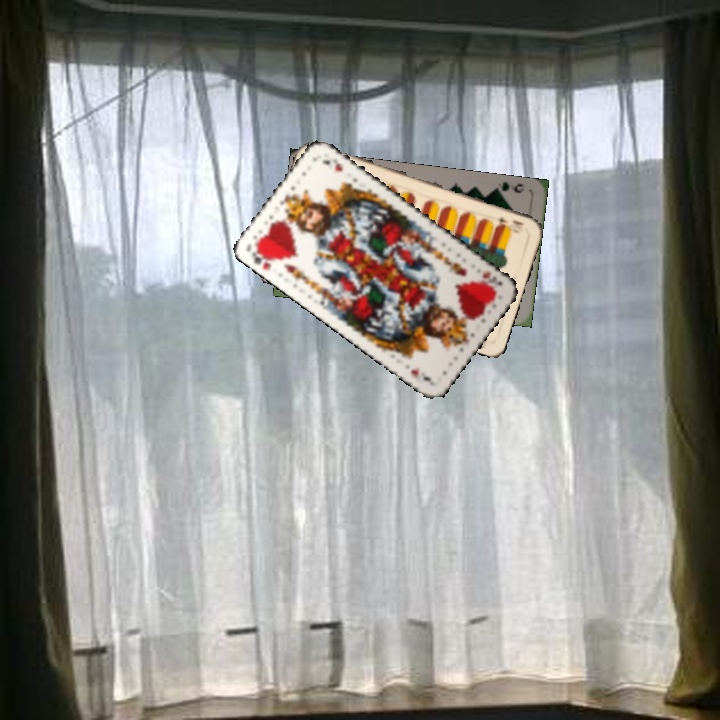E10: (488, 212, 527, 231)
G9: (490, 178, 527, 197)
HK: (247, 241, 276, 272), (477, 267, 505, 294)
